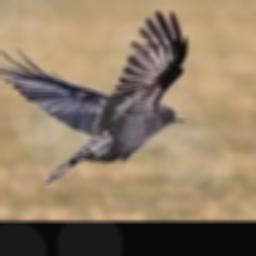Crow: (0, 9, 188, 182)
